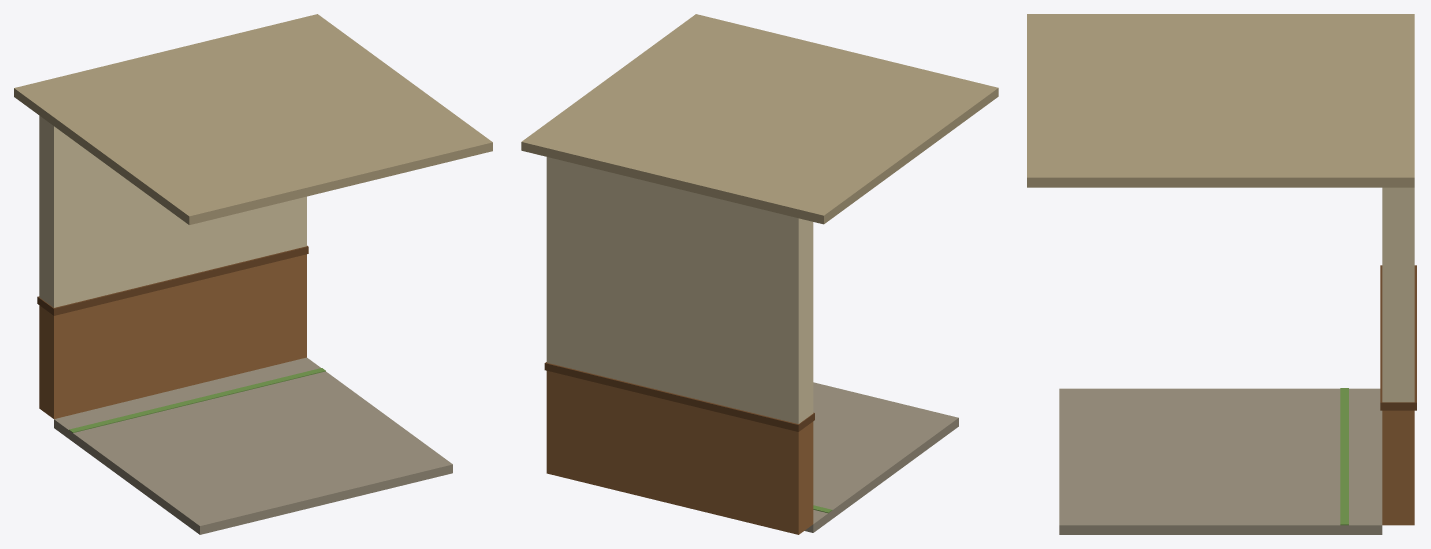
The model's file is room_shared_hall_t.glb.
The picture shows the model from 3 angles, left to right: view 1: azimuth 30°, elevation 25°; view 2: azimuth 150°, elevation 25°; view 3: azimuth 270°, elevation 25°; orthographic projection. The views are drawn at different scales.
Parts seen in each view (by area): view 1: room_shared_hall_t; view 2: room_shared_hall_t; view 3: room_shared_hall_t.
Boxes of the visible parts, x1,y1,x2,y2 form: room_shared_hall_t: [14, 14, 492, 534]; room_shared_hall_t: [521, 14, 998, 534]; room_shared_hall_t: [1027, 14, 1416, 534].
Bounding box in the file's own units: 3.6 × 3.8 × 3.62.
Materials: 1 (1 with a texture image).
